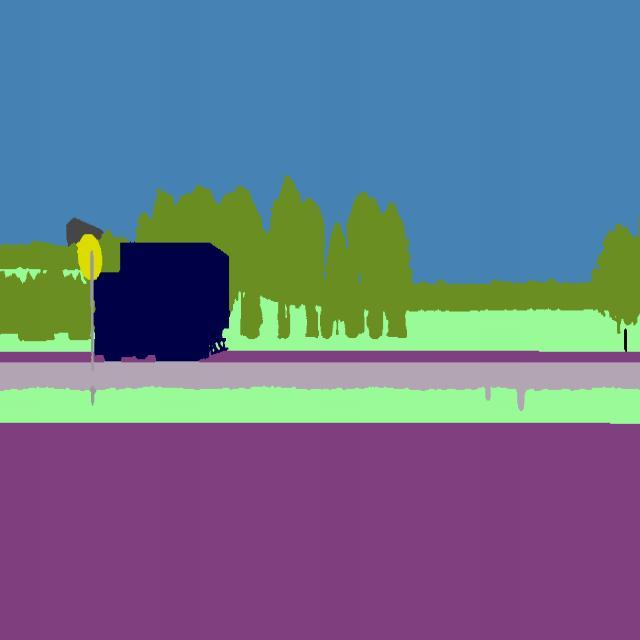safe: (92, 242, 231, 361)
